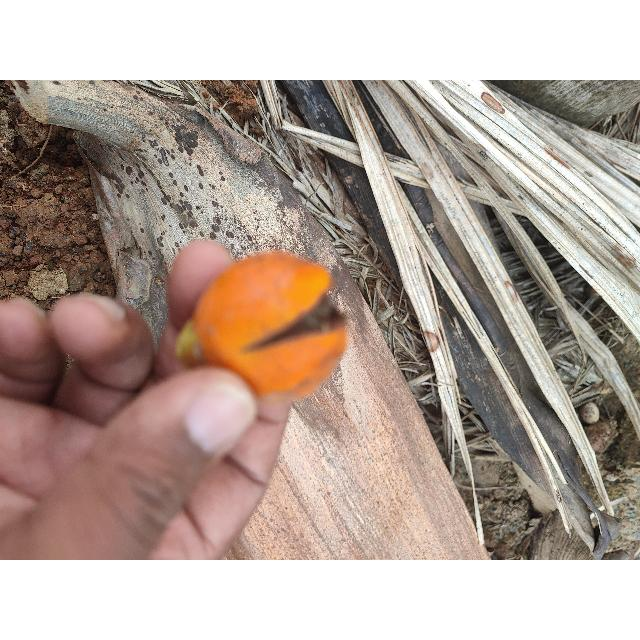damaged: (175, 251, 348, 422)
